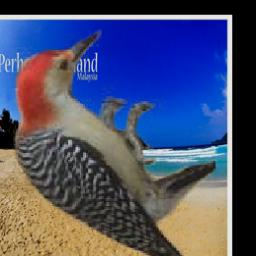Woodpecker: (6, 29, 215, 256)
